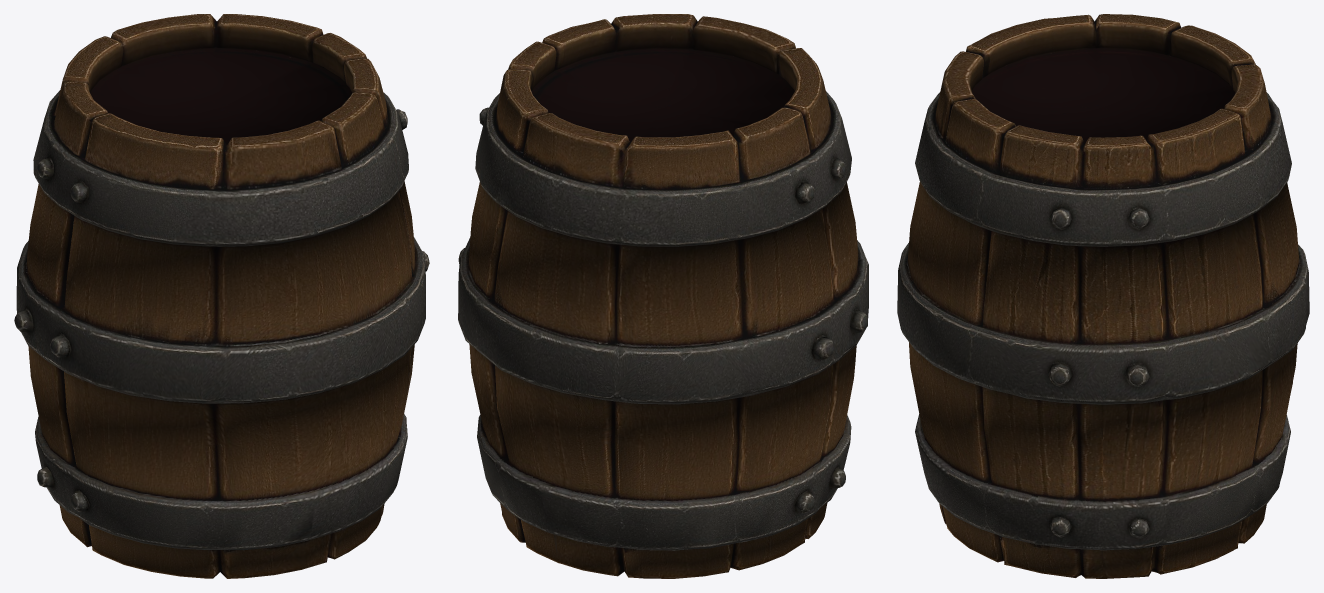
The model's file is Barrel.fbx.
The picture shows the model from 3 angles, left to right: view 1: azimuth 30°, elevation 25°; view 2: azimuth 150°, elevation 25°; view 3: azimuth 270°, elevation 25°; orthographic projection.
Visible parts, largest first — view 1: Barrel; view 2: Barrel; view 3: Barrel.
Boxes of the visible parts, x1,y1,x2,y2 form: Barrel: (14,14,429,578); Barrel: (458,14,868,578); Barrel: (897,14,1309,578).
Bounding box in the file's own units: 90.43 × 99.8 × 86.52.
